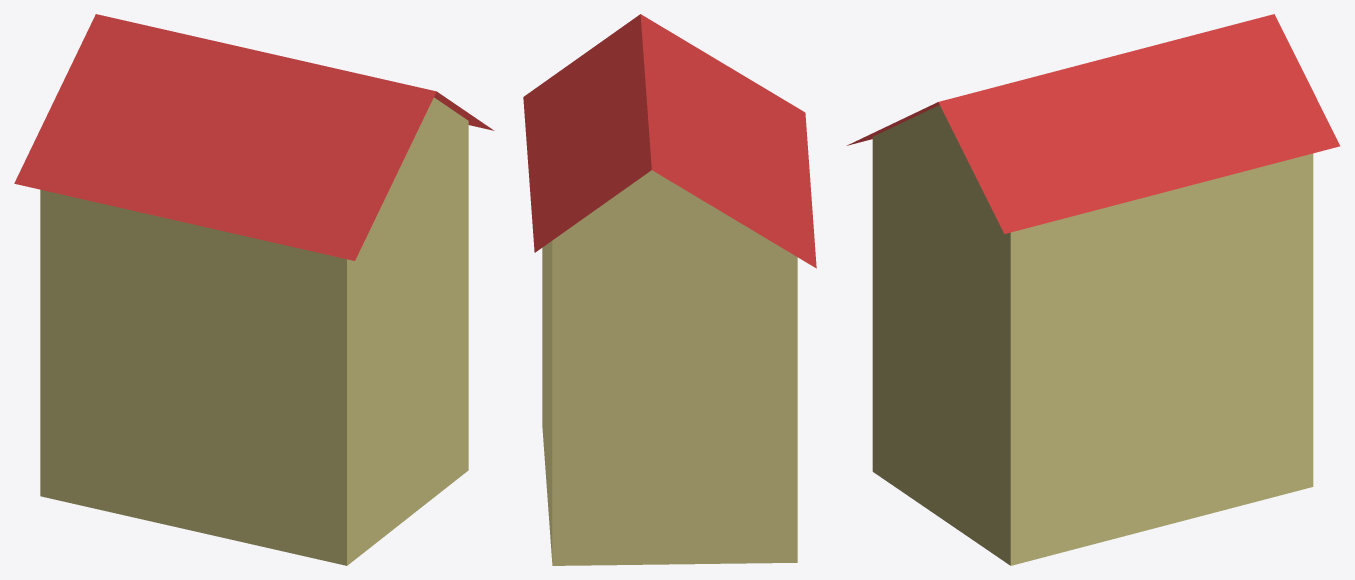
The picture shows the model from 3 angles, left to right: view 1: azimuth 30°, elevation 25°; view 2: azimuth 150°, elevation 25°; view 3: azimuth 270°, elevation 25°; orthographic projection. The views are drawn at different scales.
Bounding box in the file's own units: 11.8 × 12.57 × 12.06.
